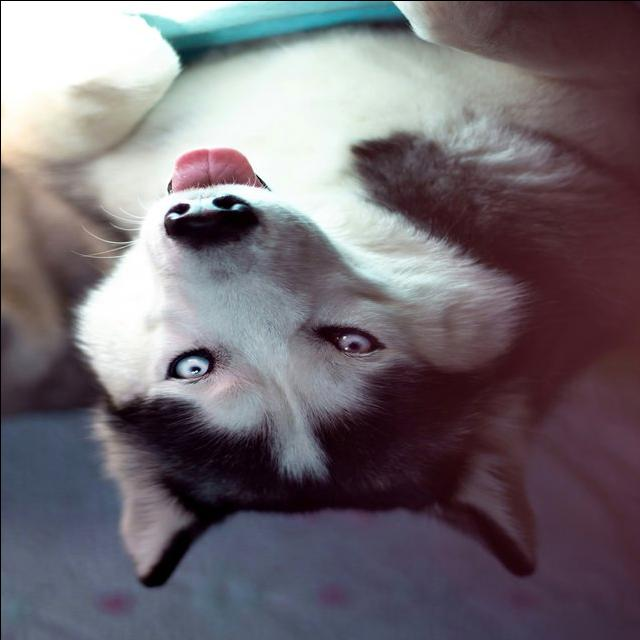husky: (3, 3, 639, 590)
